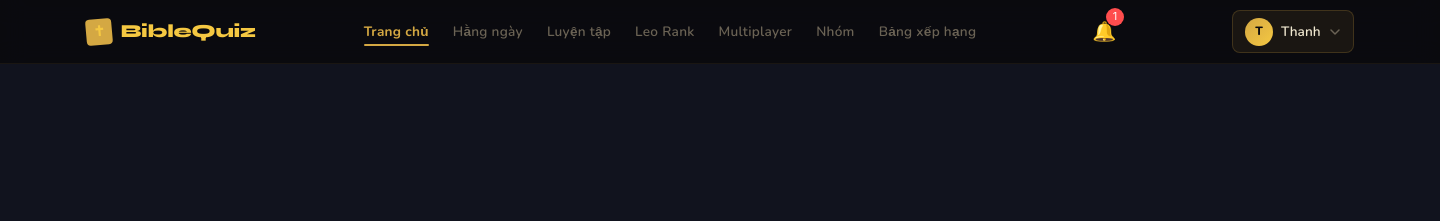
Test case: Header › shows notifications list when there are notifications
Check: the text "1" is shown, box [1106,8,1124,26]
Click the button "🔔 1".
click(1104, 31)  # box [1084,8,1124,55]
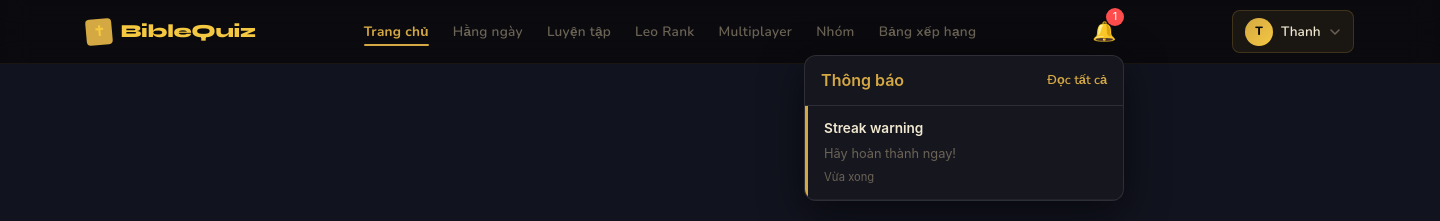
Check: the text "Streak warning" is shown, box [824,120,923,136]
Check: the text "Hãy hoàn thành ngay!" is shown, box [824,146,956,161]
